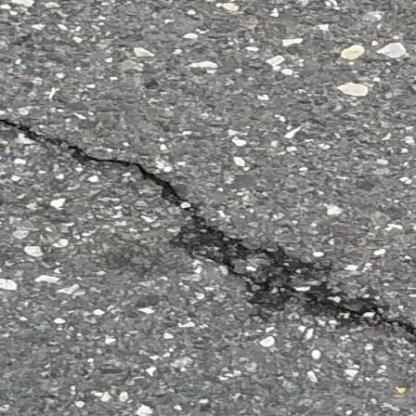Cracks: (46, 192, 416, 404), (0, 113, 414, 298)
